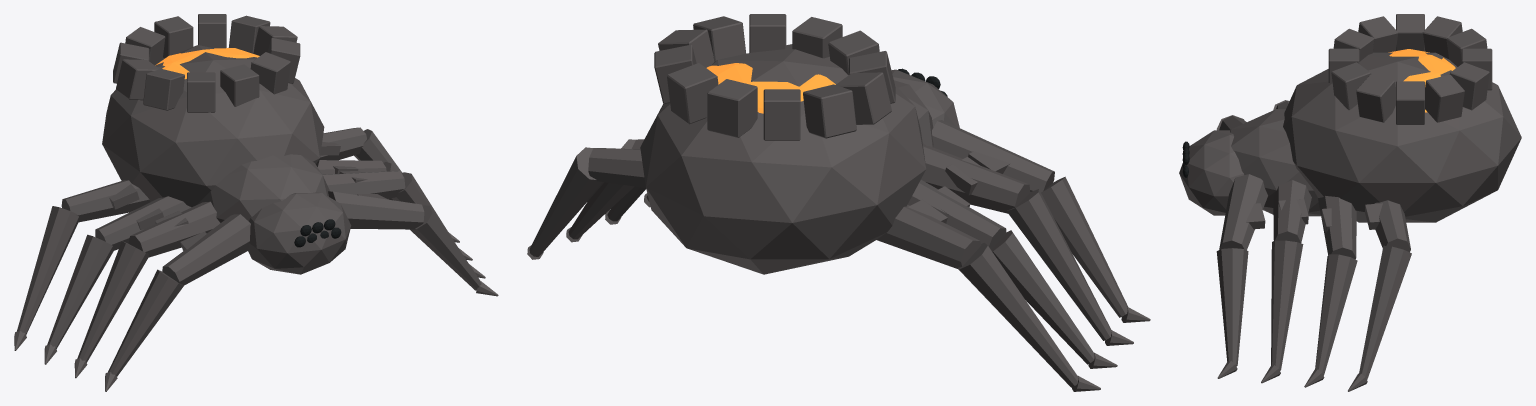
Rendered from kilnback.glb.
The picture shows the model from 3 angles, left to right: view 1: azimuth 30°, elevation 25°; view 2: azimuth 150°, elevation 25°; view 3: azimuth 270°, elevation 25°; orthographic projection. The views are drawn at different scales.
Visible parts, largest first — view 1: Abdomen, Head, Thorax, Leg -1 0 upper, Leg -1 3 lower, Leg -1 1 lower, Leg -1 2 lower, Leg 1 0 upper, Leg -1 1 upper, Leg -1 0 lower, Leg 1 0 lower, Leg -1 3 upper (+20 smaller); view 2: Abdomen, Leg -1 1 lower, Leg -1 3 lower, Leg -1 0 lower, Leg -1 2 lower, Leg -1 3 upper, Leg -1 1 upper, Leg -1 0 upper, Leg 1 3 lower, Crucible rim slab.003, Crucible rim slab.005, Leg -1 2 upper (+17 smaller); view 3: Abdomen, Thorax, Head, Leg 1 1 lower, Leg 1 3 lower, Leg 1 0 lower, Leg 1 2 lower, Leg 1 0 upper, Leg 1 1 upper, Leg 1 2 upper, Crucible rim slab.001, Crucible rim slab.011 (+14 smaller).
Boxes of the visible parts, x1,y1,x2,y2 form: Abdomen: [102, 45, 324, 207]; Head: [248, 192, 351, 274]; Thorax: [197, 154, 329, 222]; Leg -1 0 upper: [162, 214, 250, 285]; Leg -1 3 lower: [17, 206, 78, 334]; Leg -1 1 lower: [77, 241, 148, 362]; Leg -1 2 lower: [47, 234, 113, 348]; Leg 1 0 upper: [328, 191, 424, 229]; Leg -1 1 upper: [128, 201, 220, 257]; Leg -1 0 lower: [108, 269, 183, 376]; Leg 1 0 lower: [410, 205, 481, 290]; Leg -1 3 upper: [61, 180, 150, 222]; Abdomen: [640, 44, 926, 274]; Leg -1 1 lower: [1006, 189, 1111, 340]; Leg -1 3 lower: [957, 242, 1078, 387]; Leg -1 0 lower: [1041, 176, 1127, 317]; Leg -1 2 lower: [991, 230, 1094, 364]; Leg -1 3 upper: [876, 204, 981, 268]; Leg -1 1 upper: [921, 145, 1030, 213]; Leg -1 0 upper: [932, 120, 1054, 192]; Leg 1 3 lower: [529, 147, 603, 256]; Crucible rim slab.003: [707, 79, 757, 137]; Crucible rim slab.005: [803, 84, 856, 138]; Leg -1 2 upper: [908, 180, 1006, 249]; Abdomen: [1283, 52, 1521, 222]; Thorax: [1230, 109, 1320, 216]; Head: [1179, 130, 1243, 215]; Leg 1 1 lower: [1271, 240, 1303, 370]; Leg 1 3 lower: [1359, 245, 1411, 379]; Leg 1 0 lower: [1216, 248, 1248, 366]; Leg 1 2 lower: [1315, 254, 1357, 375]; Leg 1 0 upper: [1219, 174, 1267, 250]; Leg 1 1 upper: [1273, 180, 1311, 243]; Leg 1 2 upper: [1318, 196, 1356, 259]; Crucible rim slab.001: [1425, 74, 1464, 122]; Crucible rim slab.011: [1356, 74, 1395, 122].
Size of the model in its own units: 3.59 by 1.76 by 2.37.
